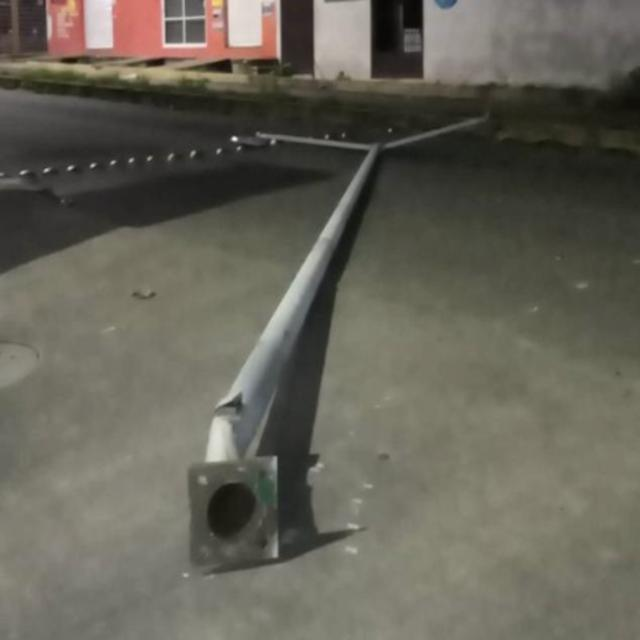Inclined Pole: (186, 106, 500, 571)
